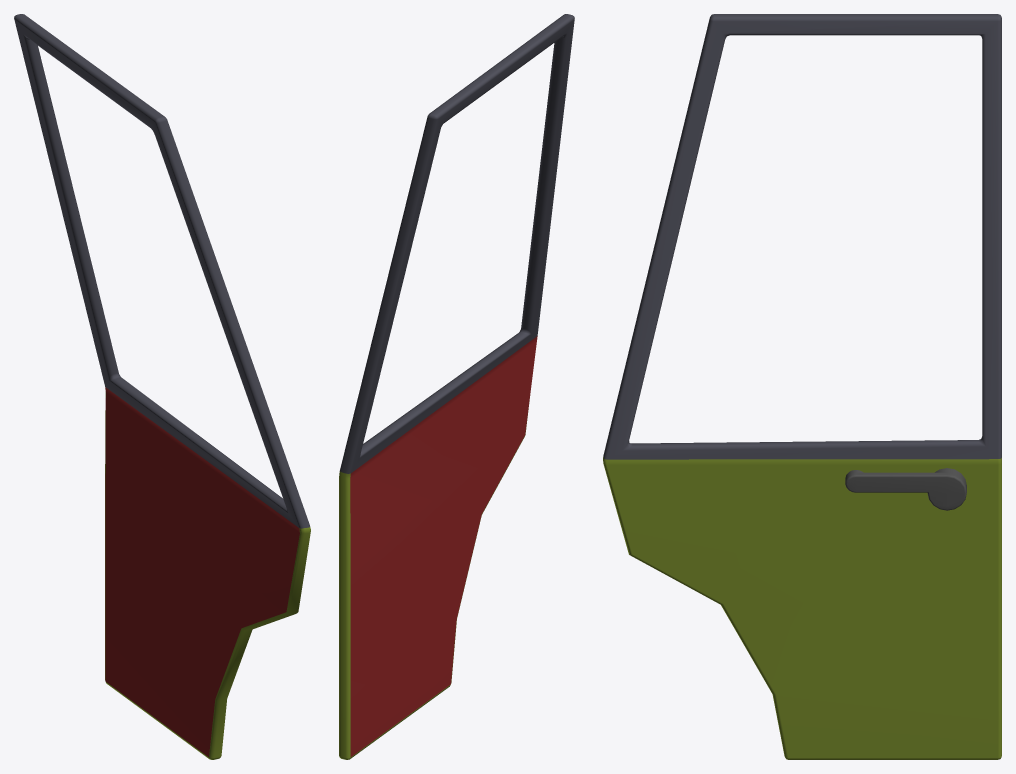
Rendered from door.fbx.
The picture shows the model from 3 angles, left to right: view 1: azimuth 30°, elevation 25°; view 2: azimuth 150°, elevation 25°; view 3: azimuth 270°, elevation 25°; orthographic projection. The views are drawn at different scales.
Parts seen in each view (by area): view 1: car_door.001; view 2: car_door.001; view 3: car_door.001, car_doorhandles.007.
Boxes of the visible parts, left/top/right/bottom form: car_door.001: left=14, top=14, right=310, bottom=759; car_door.001: left=339, top=14, right=574, bottom=759; car_door.001: left=603, top=14, right=1001, bottom=759; car_doorhandles.007: left=845, top=468, right=966, bottom=510.
Size of the model in its own units: 24.57 by 137 by 71.07.
